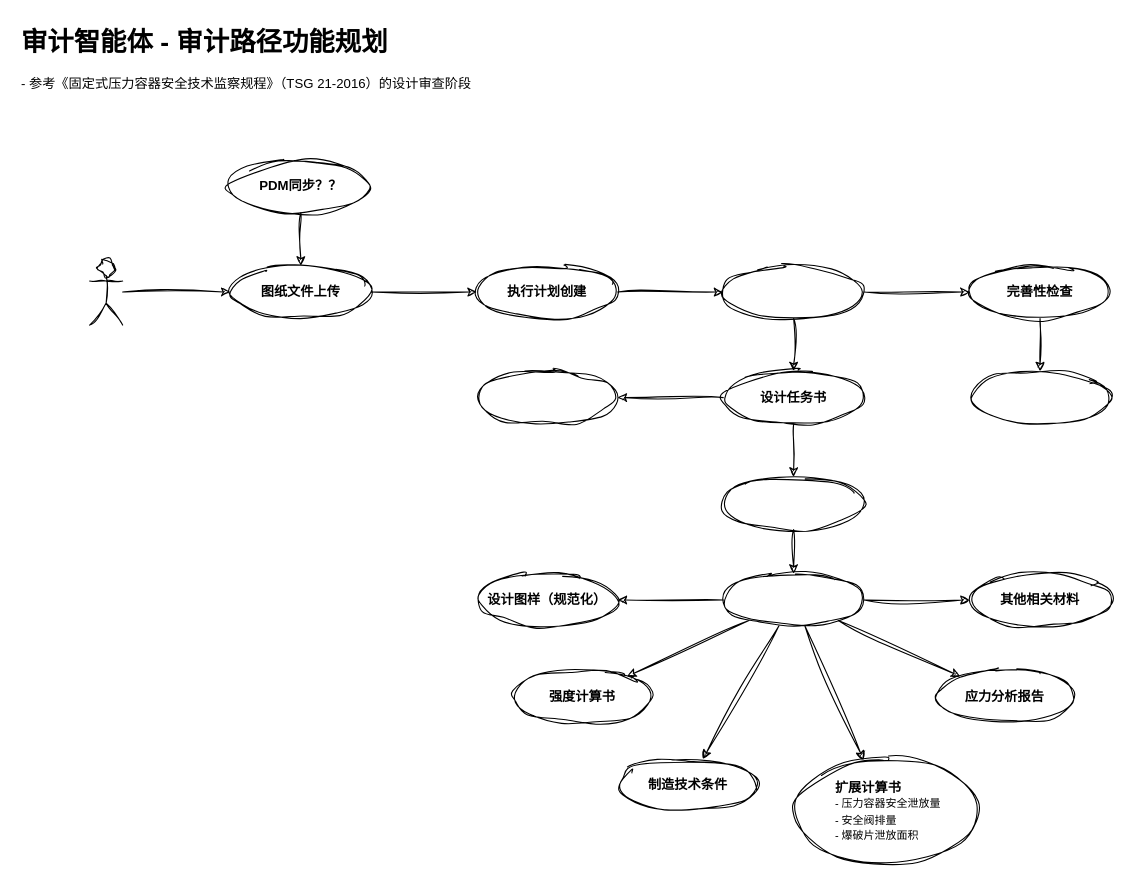
Some shapes in this 1130 by 883 pixel diagram are drawn without their labels. Each missing label, with the centre of its shape:
"审查报告生成" goes at pixel 1039 397.
"执行参数定义" goes at pixel 793 503.
"执行计划表单" goes at pixel 793 291.
"智能模板生成" goes at pixel 793 599.
"设计员" goes at pixel 106 291.
"附加提示信息" goes at pixel 547 397.
